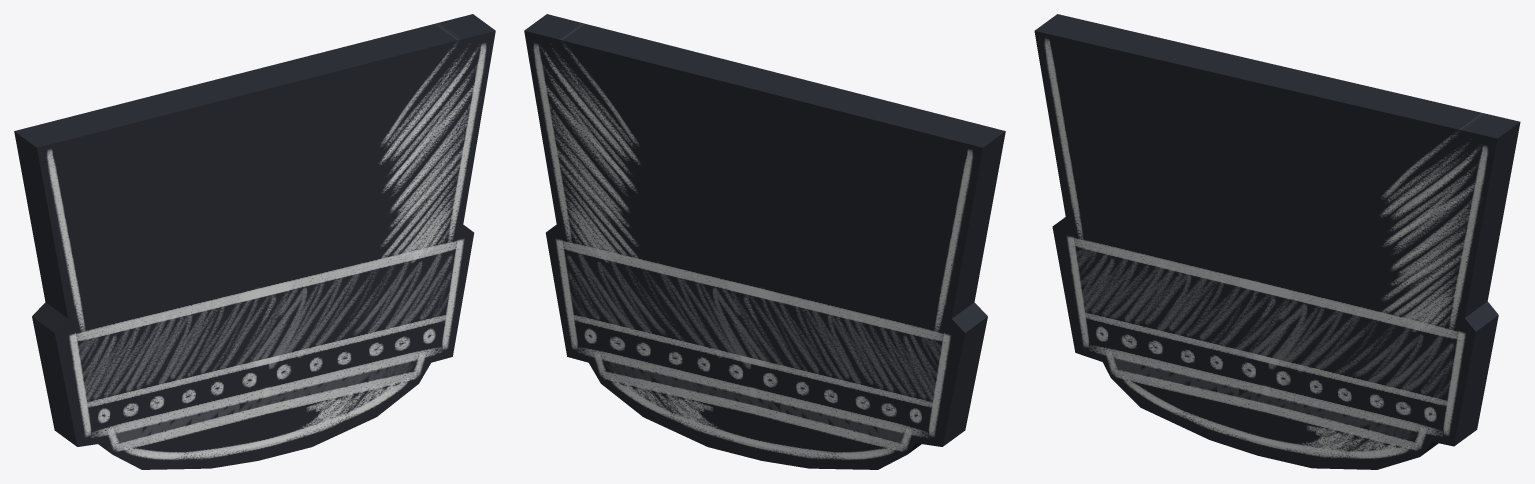
File: SpaceshipTop.fbx
The picture shows the model from 3 angles, left to right: view 1: azimuth 30°, elevation 25°; view 2: azimuth 150°, elevation 25°; view 3: azimuth 330°, elevation 25°; orthographic projection.
Parts seen in each view (by area): view 1: m_SpaceshipTop; view 2: m_SpaceshipTop; view 3: m_SpaceshipTop.
Part boxes in pixels (x1,y1,x2,y2): m_SpaceshipTop: [14, 14, 495, 469]; m_SpaceshipTop: [524, 14, 1005, 469]; m_SpaceshipTop: [1034, 14, 1520, 469].
Bounding box in the file's own units: 1.16 × 0.9007 × 0.1.
